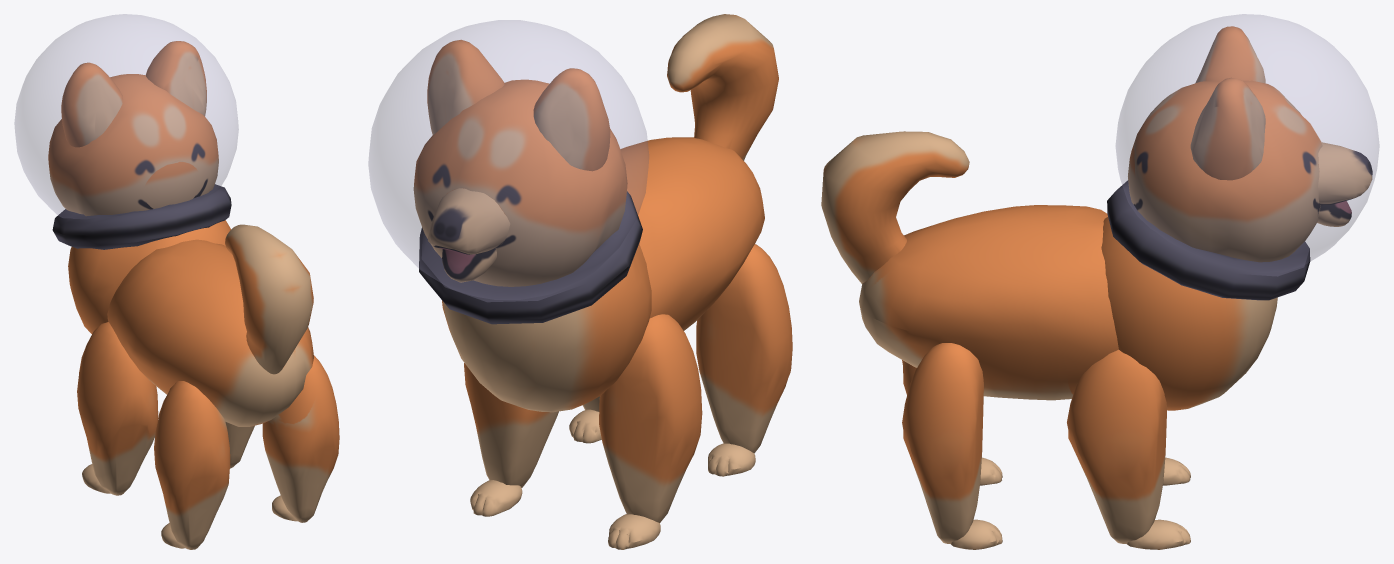
The model's file is dog.glb.
The picture shows the model from 3 angles, left to right: view 1: azimuth 30°, elevation 25°; view 2: azimuth 150°, elevation 25°; view 3: azimuth 270°, elevation 25°; orthographic projection. The views are drawn at different scales.
Visible parts, largest first — view 1: Sphere.006; view 2: Sphere.006; view 3: Sphere.006.
Boxes of the visible parts, x1=… form: Sphere.006: x1=14, y1=14, x2=339, y2=549; Sphere.006: x1=368, y1=14, x2=792, y2=549; Sphere.006: x1=821, y1=14, x2=1379, y2=549.
Bounding box in the file's own units: 1.11 × 2.25 × 2.34.
1 material, 1 textured.
